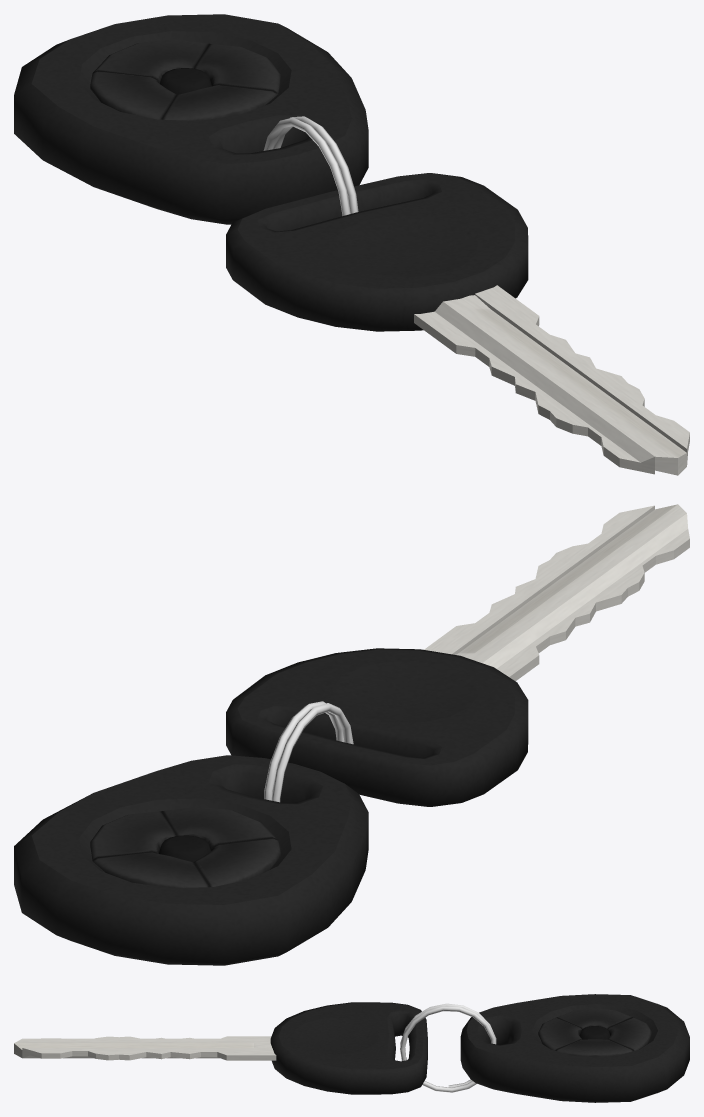
Rendered from Key.fbx.
The picture shows the model from 3 angles, top to bottom: view 1: azimuth 30°, elevation 25°; view 2: azimuth 150°, elevation 25°; view 3: azimuth 270°, elevation 25°; orthographic projection. The views are drawn at different scales.
Visible parts, largest first — view 1: Key; view 2: Key; view 3: Key.
Boxes of the visible parts, box(x1,y1,x2,y2) form: Key: box(14, 14, 689, 475); Key: box(14, 504, 689, 965); Key: box(14, 994, 689, 1102).
Bounding box in the file's own units: 3.59 × 1.8 × 12.5.
Materials: 1 (1 with a texture image).
